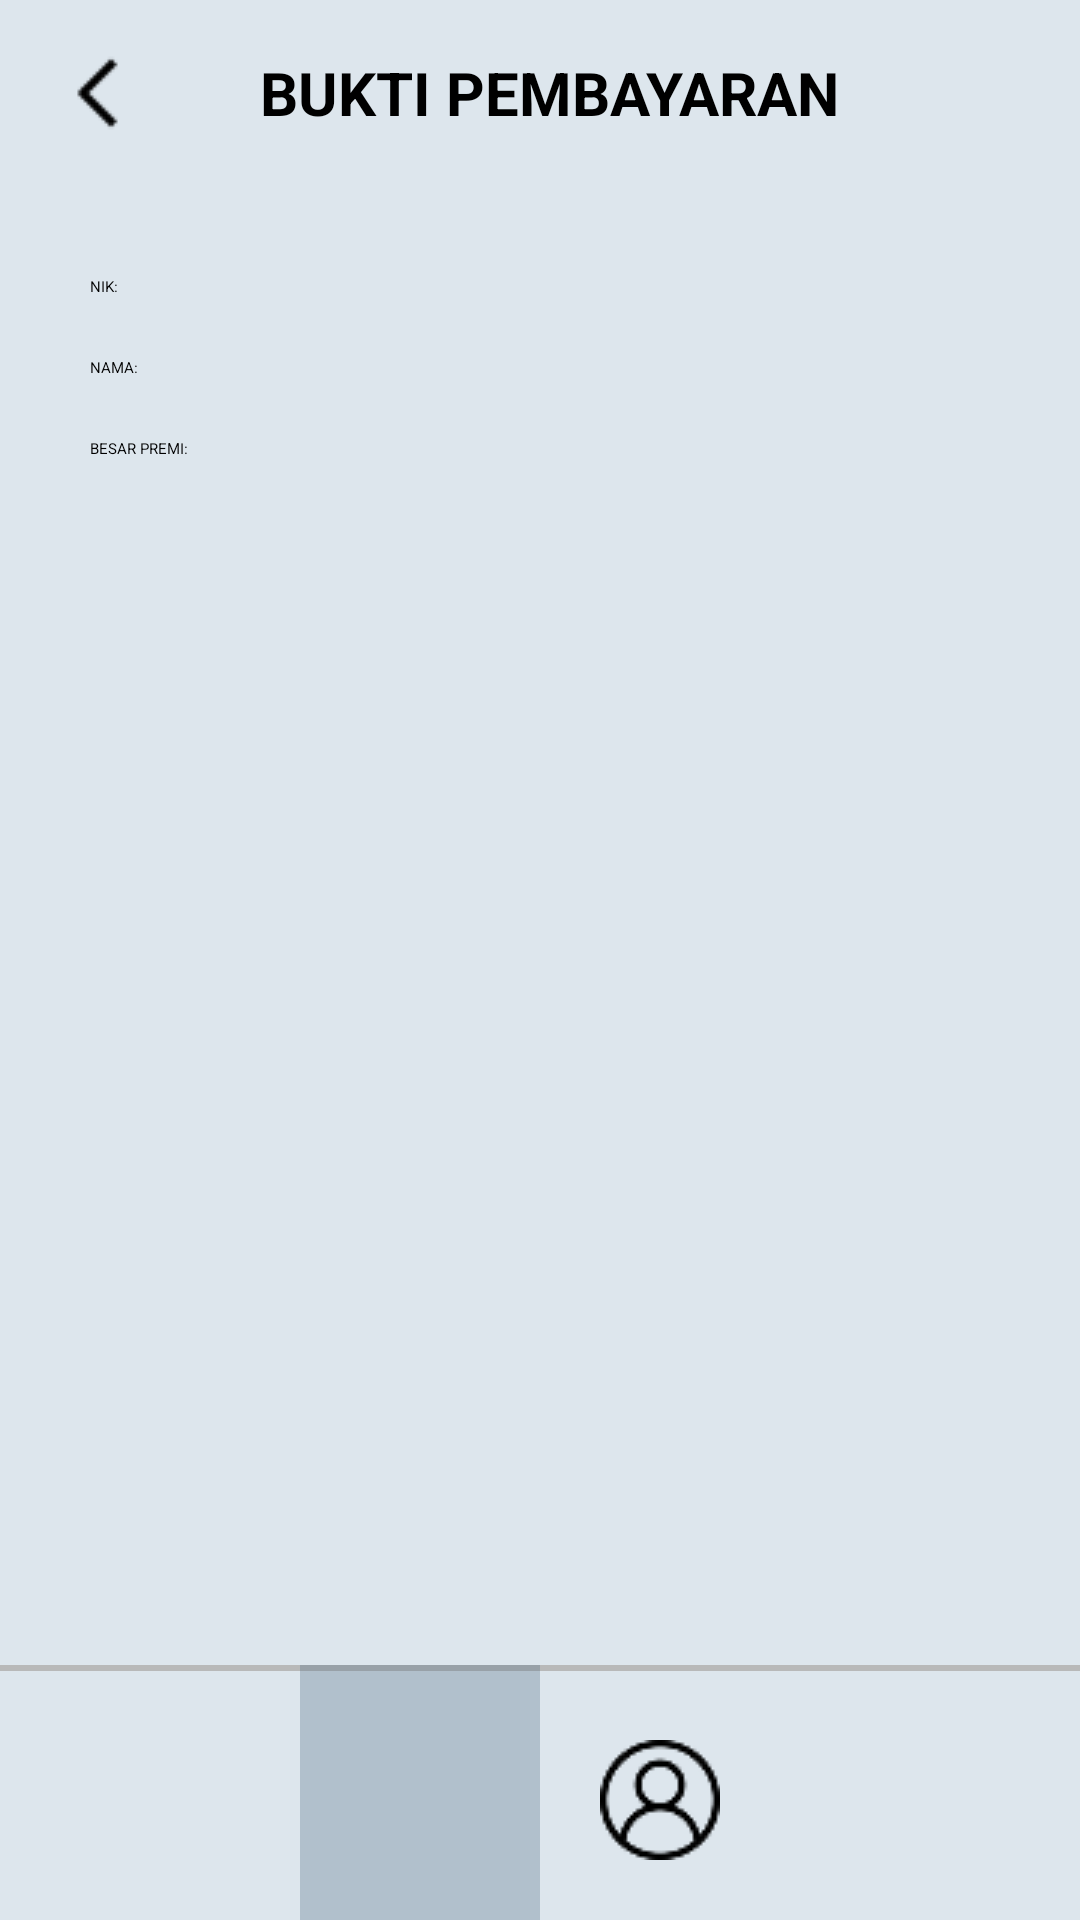

Icons on this 1080x1920 Android screen, each with the point to tap as point (x, y):
back hitam: point (97, 93)
profile: point (660, 1800)
